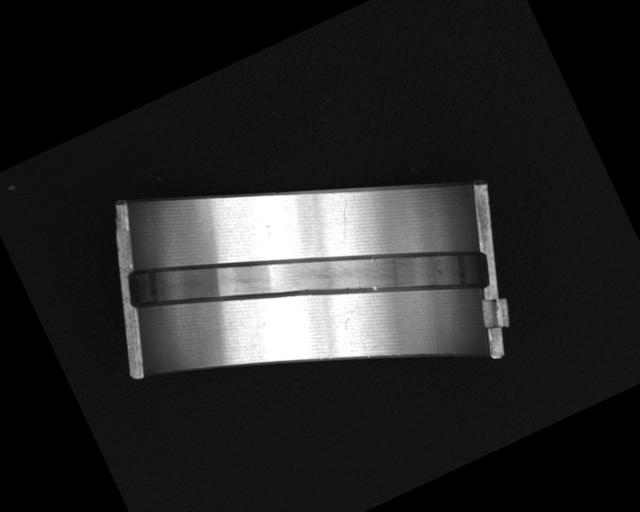gap: (118, 134, 497, 424)
nick: (330, 200, 360, 237)
